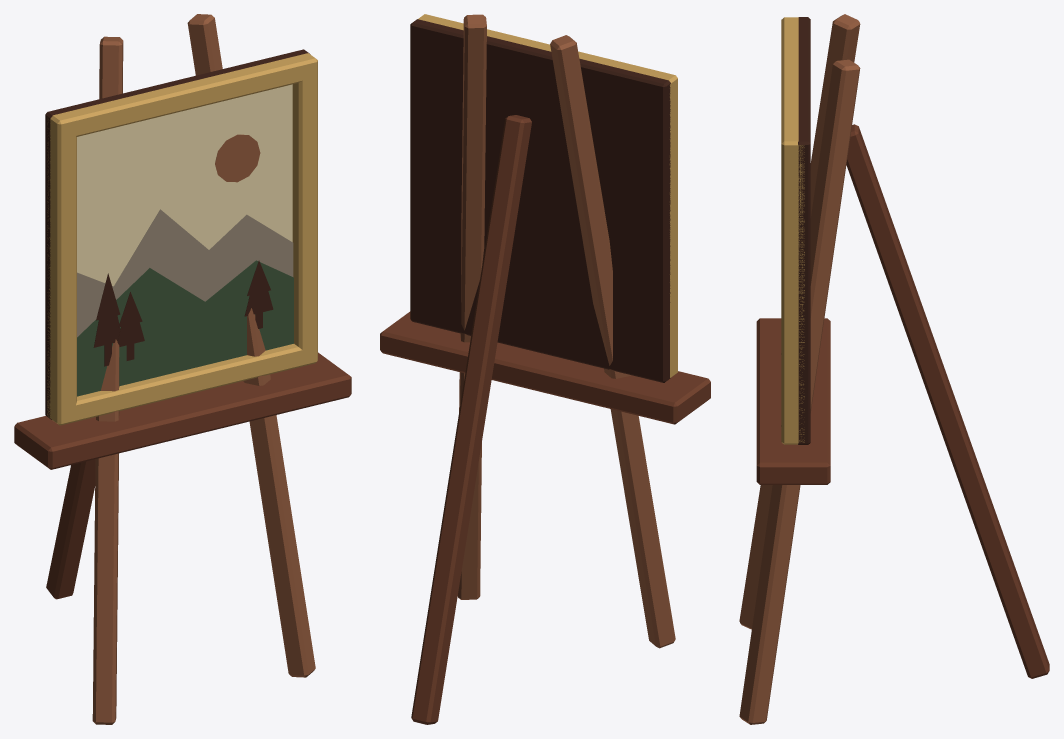
Rendered from easel.glb.
3 renders of one model, left to right at view 1: azimuth 30°, elevation 25°; view 2: azimuth 150°, elevation 25°; view 3: azimuth 270°, elevation 25°, orthographic.
Visible parts, largest first — view 1: Canvas_GoldFrame, Canvas_Sky, Canvas_NearHills, Rest, Leg_001, Canvas_DistantHills, Leg, BackLeg, Canvas, Canvas_Back, Canvas_Sun; view 2: Canvas_Back, BackLeg, Leg, Rest, Leg_001, Canvas_GoldFrame; view 3: BackLeg, Leg_001, Canvas_GoldFrame, Rest, Canvas_Back, Leg.
Boxes of the visible parts, box(x1,y1,x2,y2) form: Canvas_GoldFrame: box(47, 53, 317, 425); Canvas_Sky: box(77, 84, 292, 286); Canvas_NearHills: box(77, 260, 293, 396); Rest: box(14, 352, 351, 469); Leg_001: box(187, 14, 315, 677); Canvas_DistantHills: box(77, 209, 293, 337); Leg: box(92, 36, 123, 724); BackLeg: box(46, 459, 95, 599); Canvas: box(93, 260, 273, 366); Canvas_Back: box(45, 49, 310, 419); Canvas_Sun: box(215, 134, 260, 182); Canvas_Back: box(410, 19, 670, 382); BackLeg: box(411, 115, 531, 724); Leg: box(550, 35, 675, 648); Rest: box(380, 311, 710, 424); Leg_001: box(457, 14, 486, 599); Canvas_GoldFrame: box(418, 14, 677, 377); BackLeg: box(846, 124, 1049, 678); Leg_001: box(739, 59, 860, 724); Canvas_GoldFrame: box(781, 17, 804, 444); Rest: box(756, 318, 830, 484); Canvas_Back: box(798, 17, 810, 444); Leg: box(739, 14, 860, 629).
Size of the model in its own units: 0.85 by 1.71 by 0.7561.
